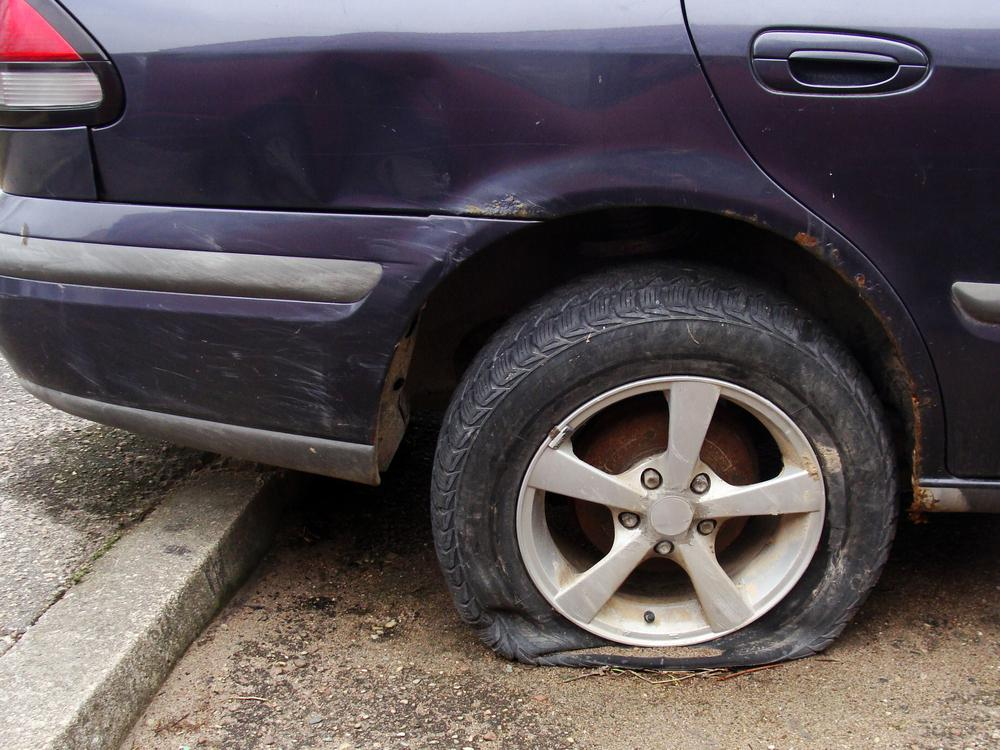dent: (213, 38, 590, 224)
scratch: (127, 336, 347, 435)
tire flat: (437, 255, 899, 669)
